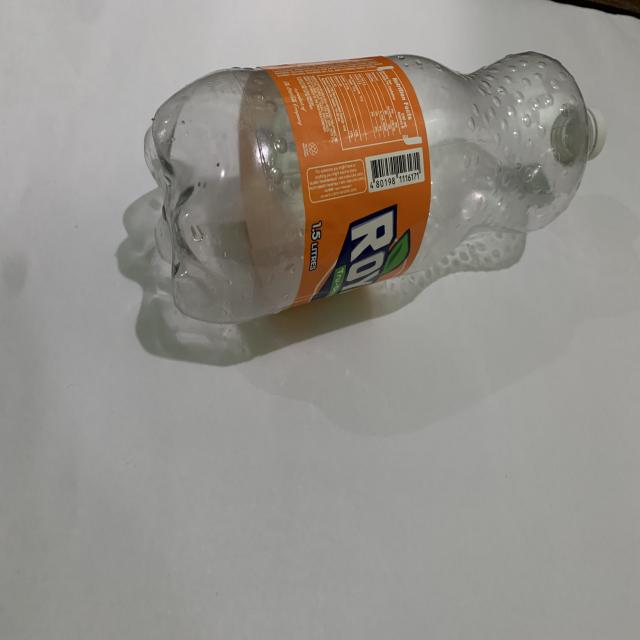bottle: (134, 26, 594, 319)
